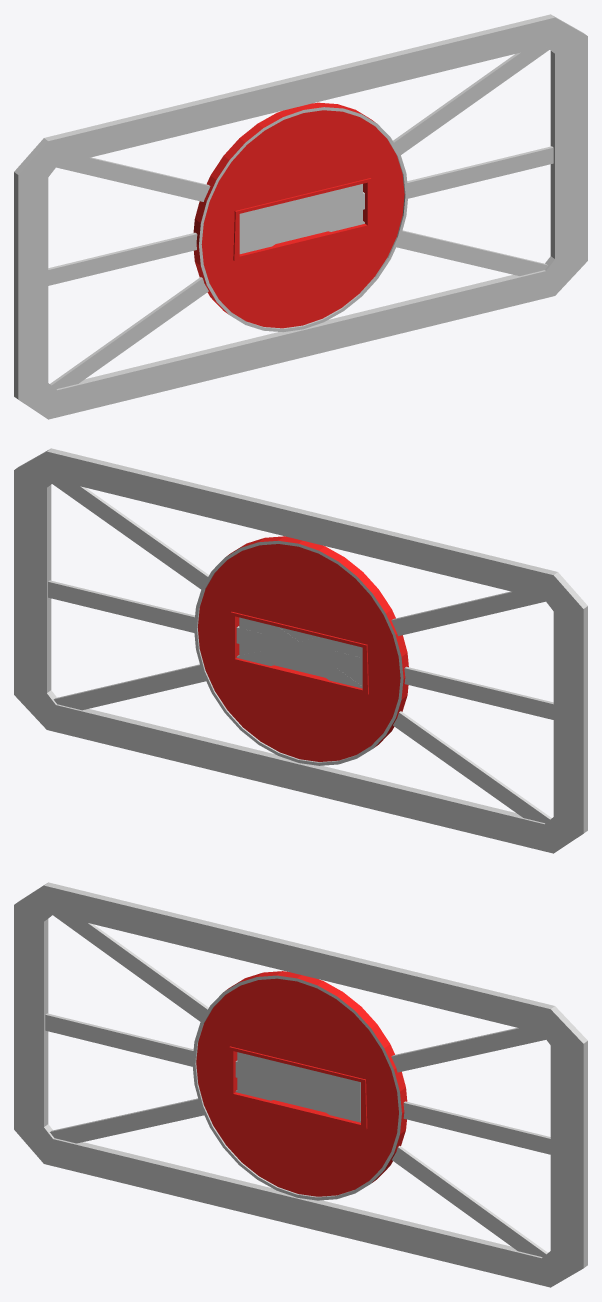
File: Stop.fbx
3 renders of one model, top to bottom at view 1: azimuth 30°, elevation 25°; view 2: azimuth 150°, elevation 25°; view 3: azimuth 330°, elevation 25°, orthographic.
Parts seen in each view (by area): view 1: Plane.010, Cylinder.002, Plane.014, Plane.013, Plane.012, Plane.011; view 2: Plane.010, Cylinder.002, Plane.014, Plane.013, Plane.012, Plane.011; view 3: Plane.010, Cylinder.002, Plane.012, Plane.013, Plane.014, Plane.011.
Part boxes in pixels (left/top/right/bottom): Plane.010: left=14, top=14, right=587, bottom=419; Cylinder.002: left=193, top=102, right=408, bottom=332; Plane.014: left=50, top=46, right=549, bottom=389; Plane.013: left=48, top=146, right=553, bottom=285; Plane.012: left=56, top=157, right=547, bottom=275; Plane.011: left=239, top=184, right=362, bottom=252; Plane.010: left=14, top=448, right=587, bottom=853; Cylinder.002: left=194, top=536, right=408, bottom=765; Plane.014: left=52, top=480, right=551, bottom=823; Plane.013: left=48, top=580, right=553, bottom=719; Plane.012: left=53, top=591, right=545, bottom=710; Plane.011: left=239, top=617, right=362, bottom=686; Plane.010: left=14, top=882, right=587, bottom=1287; Cylinder.002: left=192, top=971, right=407, bottom=1200; Plane.012: left=53, top=914, right=547, bottom=1257; Plane.013: left=45, top=1013, right=550, bottom=1154; Plane.014: left=50, top=1028, right=545, bottom=1143; Plane.011: left=237, top=1052, right=360, bottom=1120.
Bounding box in the file's own units: 8.49 × 3.97 × 0.1562.
